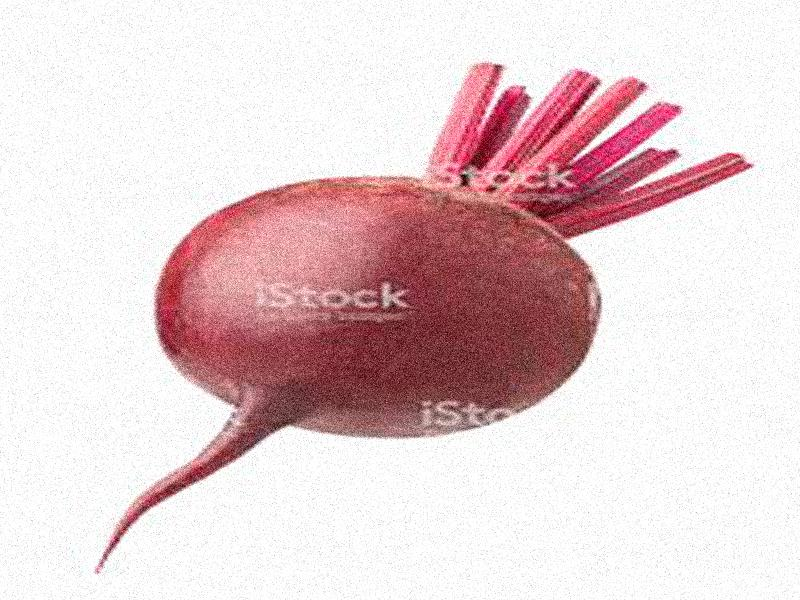Beet: (92, 62, 748, 564)
